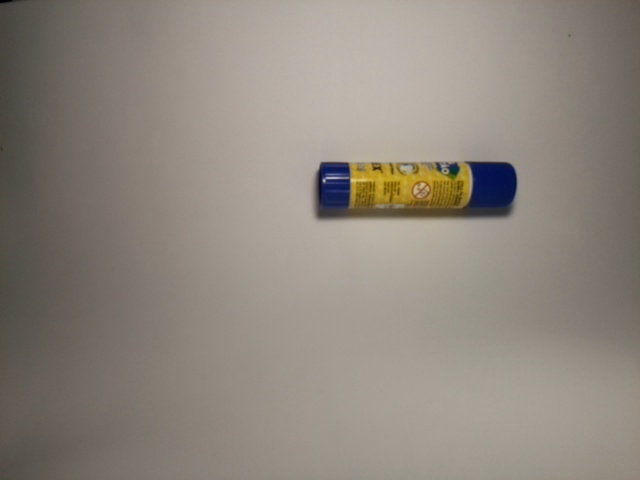Cola: (312, 158, 521, 218)
